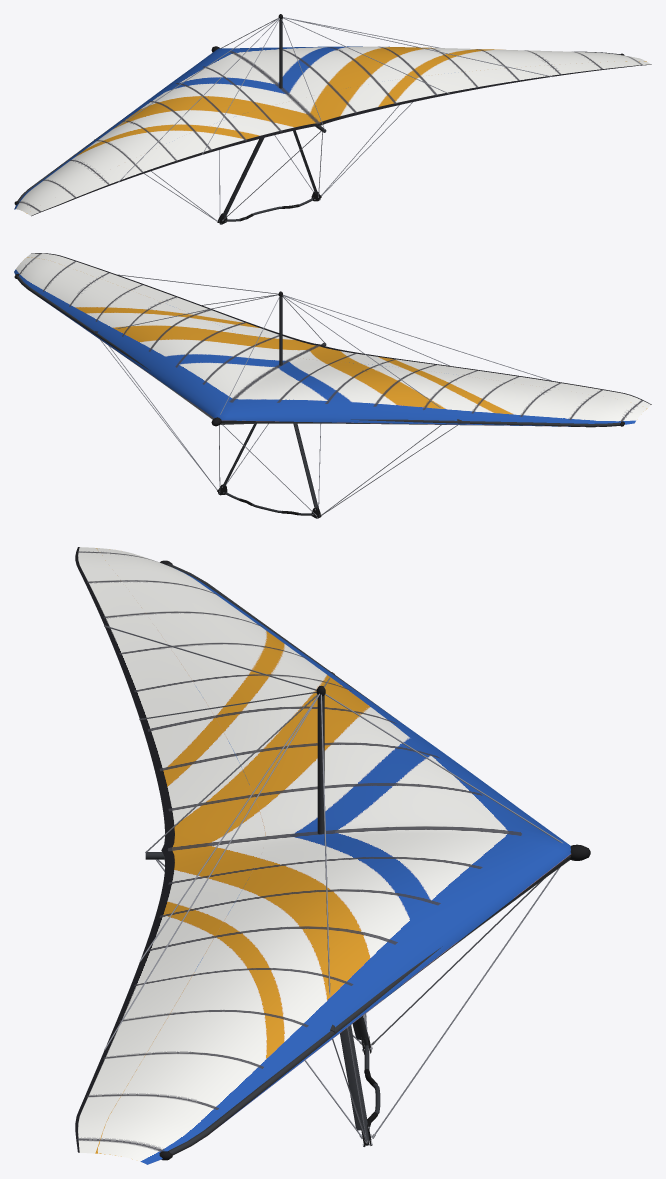
The model's file is glider_air_sting3.glb.
3 renders of one model, top to bottom at view 1: azimuth 30°, elevation 25°; view 2: azimuth 150°, elevation 25°; view 3: azimuth 270°, elevation 25°, orthographic. The views are drawn at different scales.
Parts seen in each view (by area): view 1: Sail, Frame, ControlFrame; view 2: Sail, Frame, ControlFrame; view 3: Sail, Frame, ControlFrame.
Part boxes in pixels (bbox=[...]): Sail: bbox=[14, 46, 651, 216]; Frame: bbox=[14, 14, 624, 205]; ControlFrame: bbox=[144, 102, 412, 224]; Sail: bbox=[14, 253, 651, 426]; Frame: bbox=[14, 274, 624, 427]; ControlFrame: bbox=[100, 340, 457, 518]; Sail: bbox=[75, 547, 570, 1164]; Frame: bbox=[104, 560, 590, 1160]; ControlFrame: bbox=[155, 859, 560, 1146].
Bounding box in the file's own units: 9.1 × 2.92 × 3.27.
8 materials, 1 textured.
